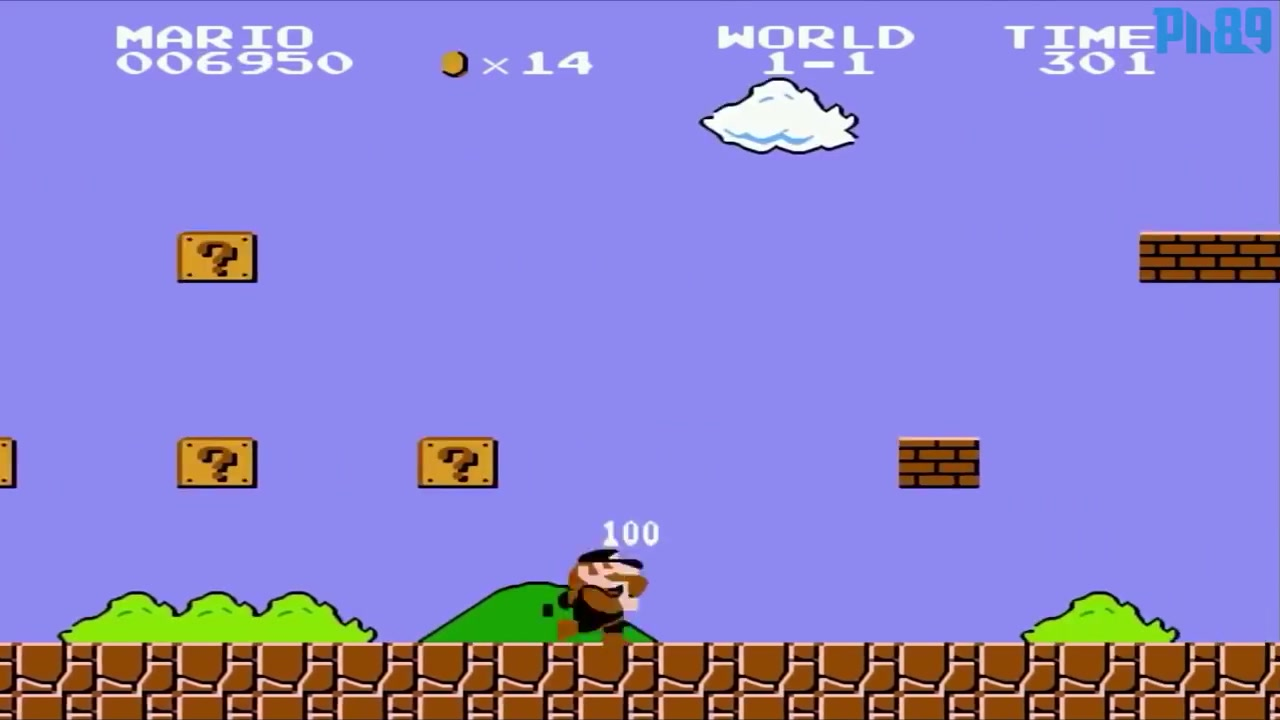mario: (546, 541, 651, 644)
